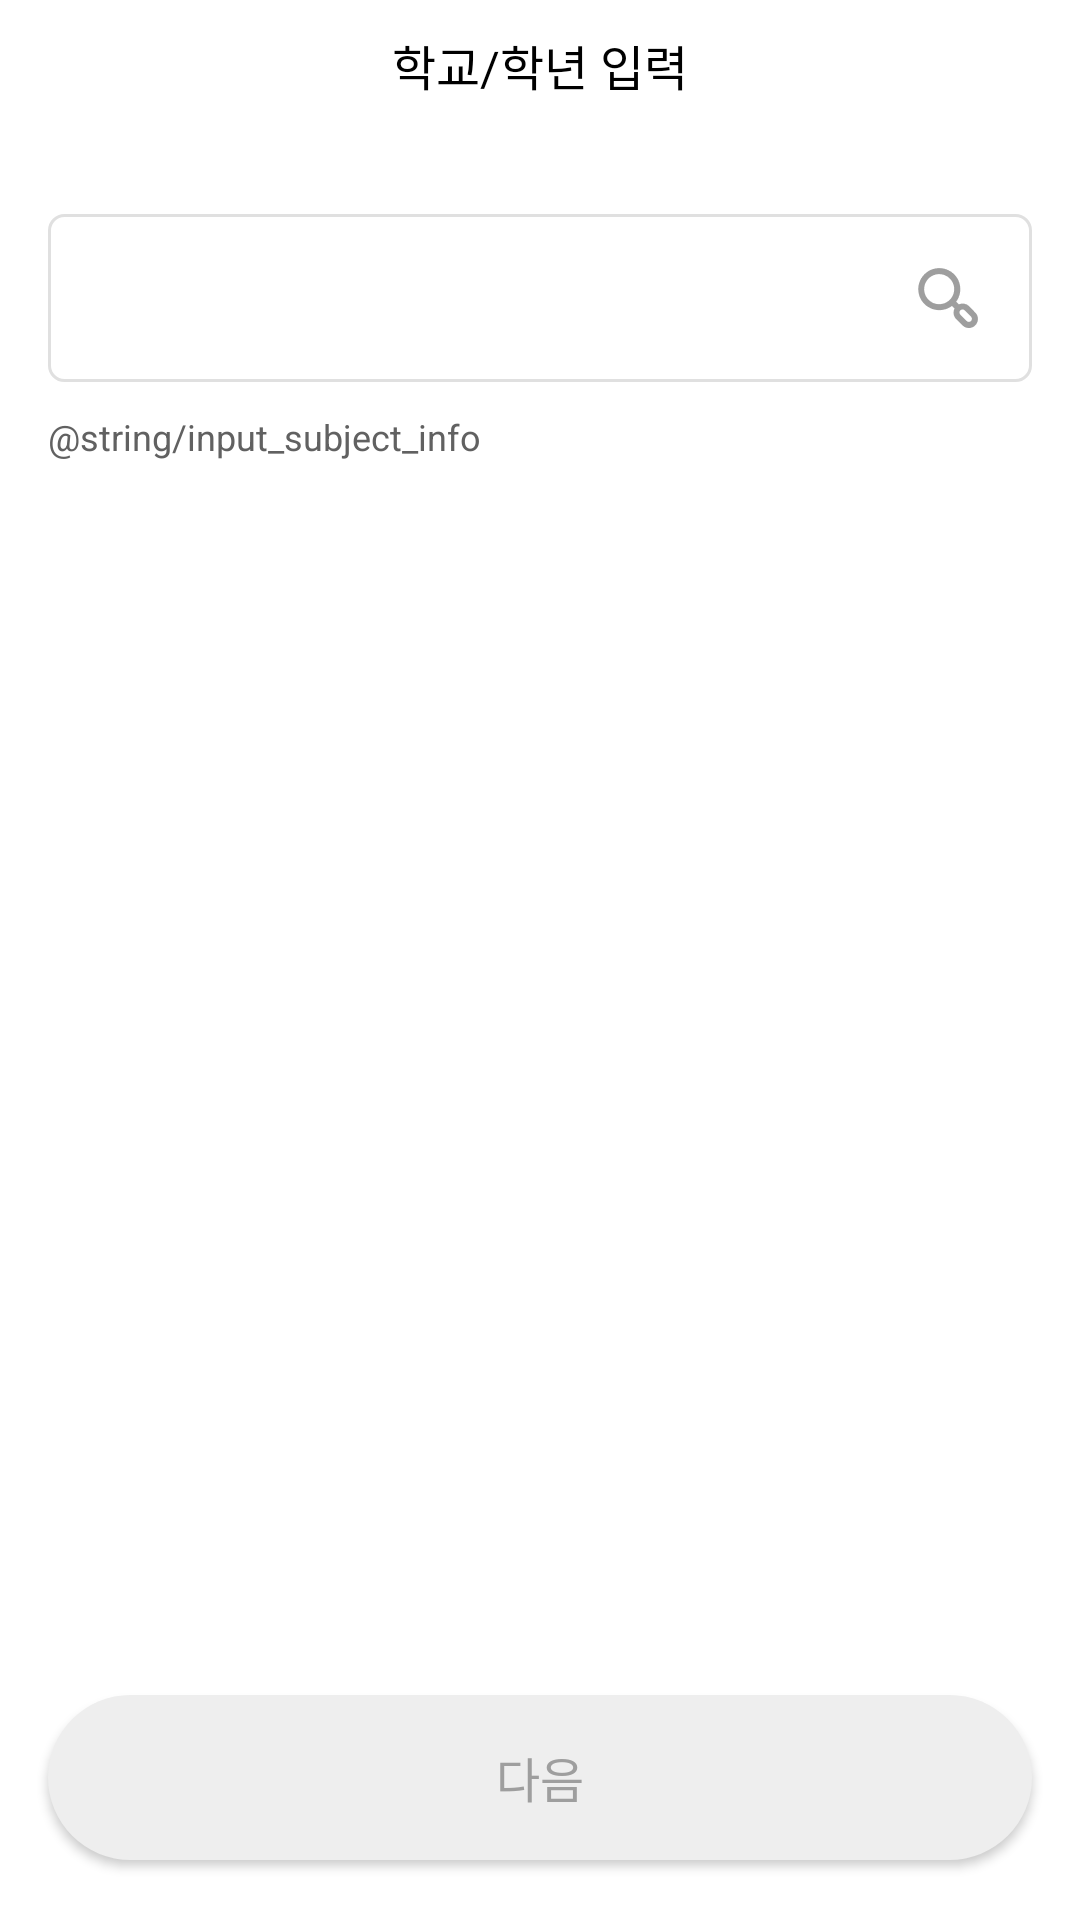

Screen size 1080px×1920px. Icon name, then its box in pixels as bbox=(x1, y1, x2, y2):
research: bbox=(918, 268, 978, 328)
